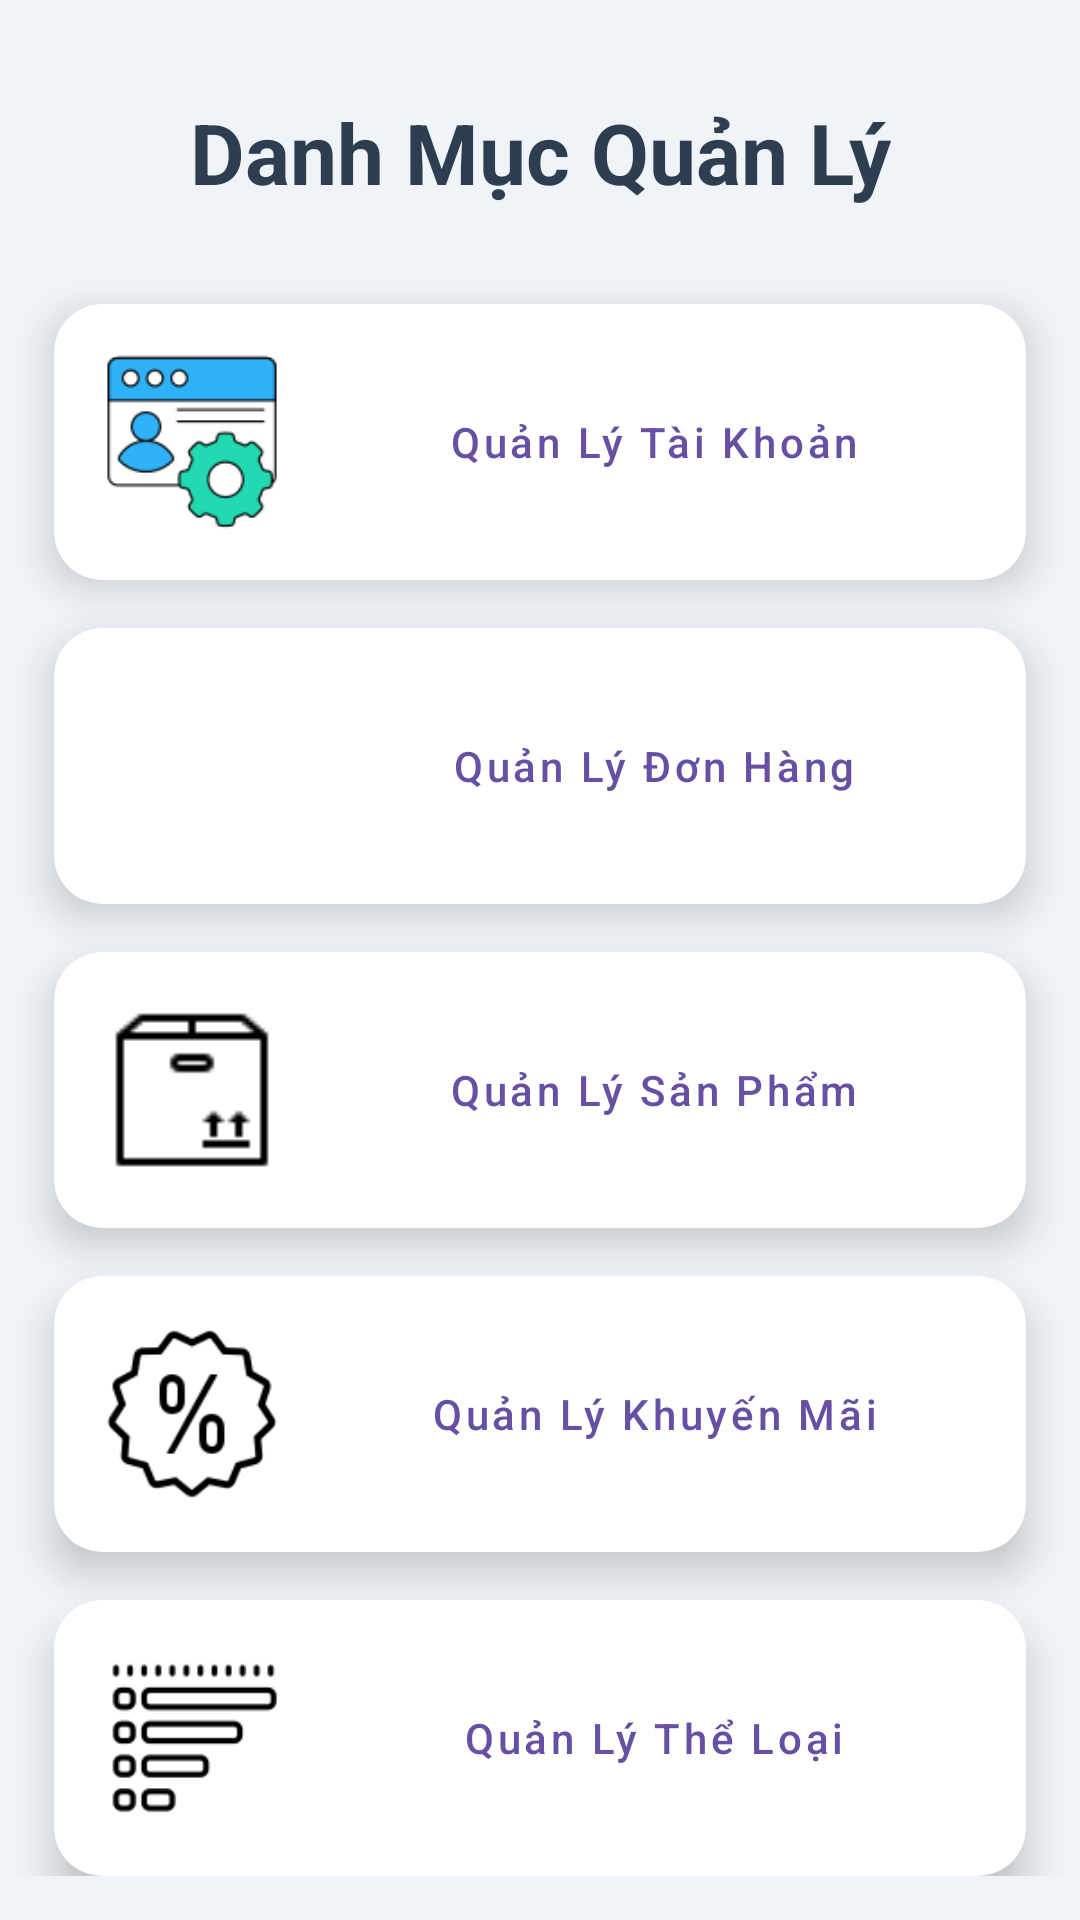

Icon bounding boxes for this 1080×1920 phone screenshot, format (x1, y1, x2, y2):
imgcategory: (112, 1664, 277, 1812)
imgproduct: (115, 1013, 269, 1167)
imgpromotion: (107, 1330, 277, 1497)
imgqlaccount: (107, 355, 277, 528)
